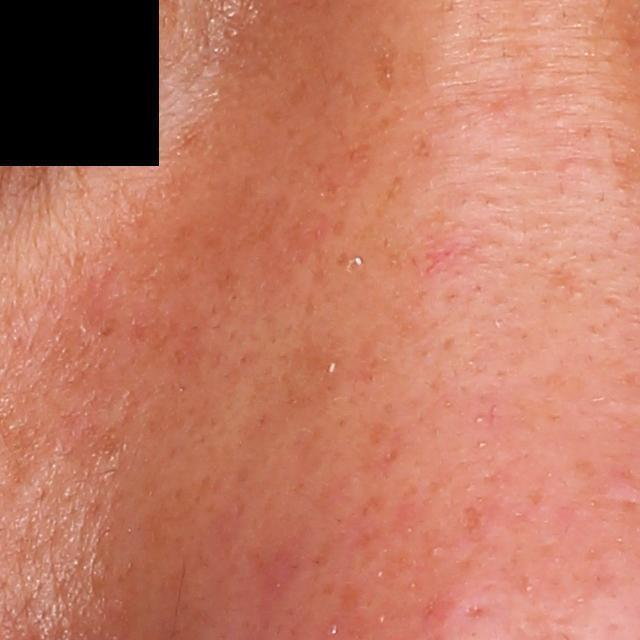melasma: (364, 29, 402, 94)
